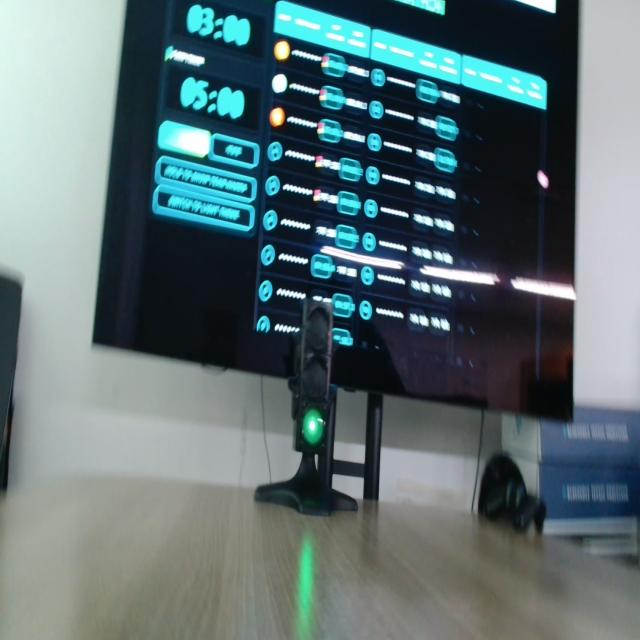green_light: (302, 408, 324, 446)
